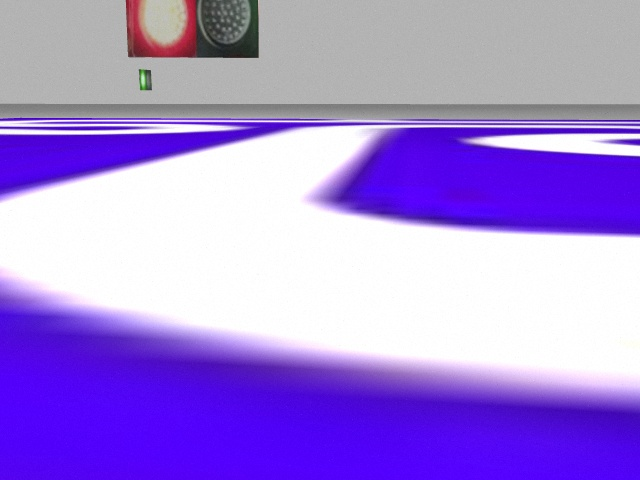red: (126, 1, 196, 57)
